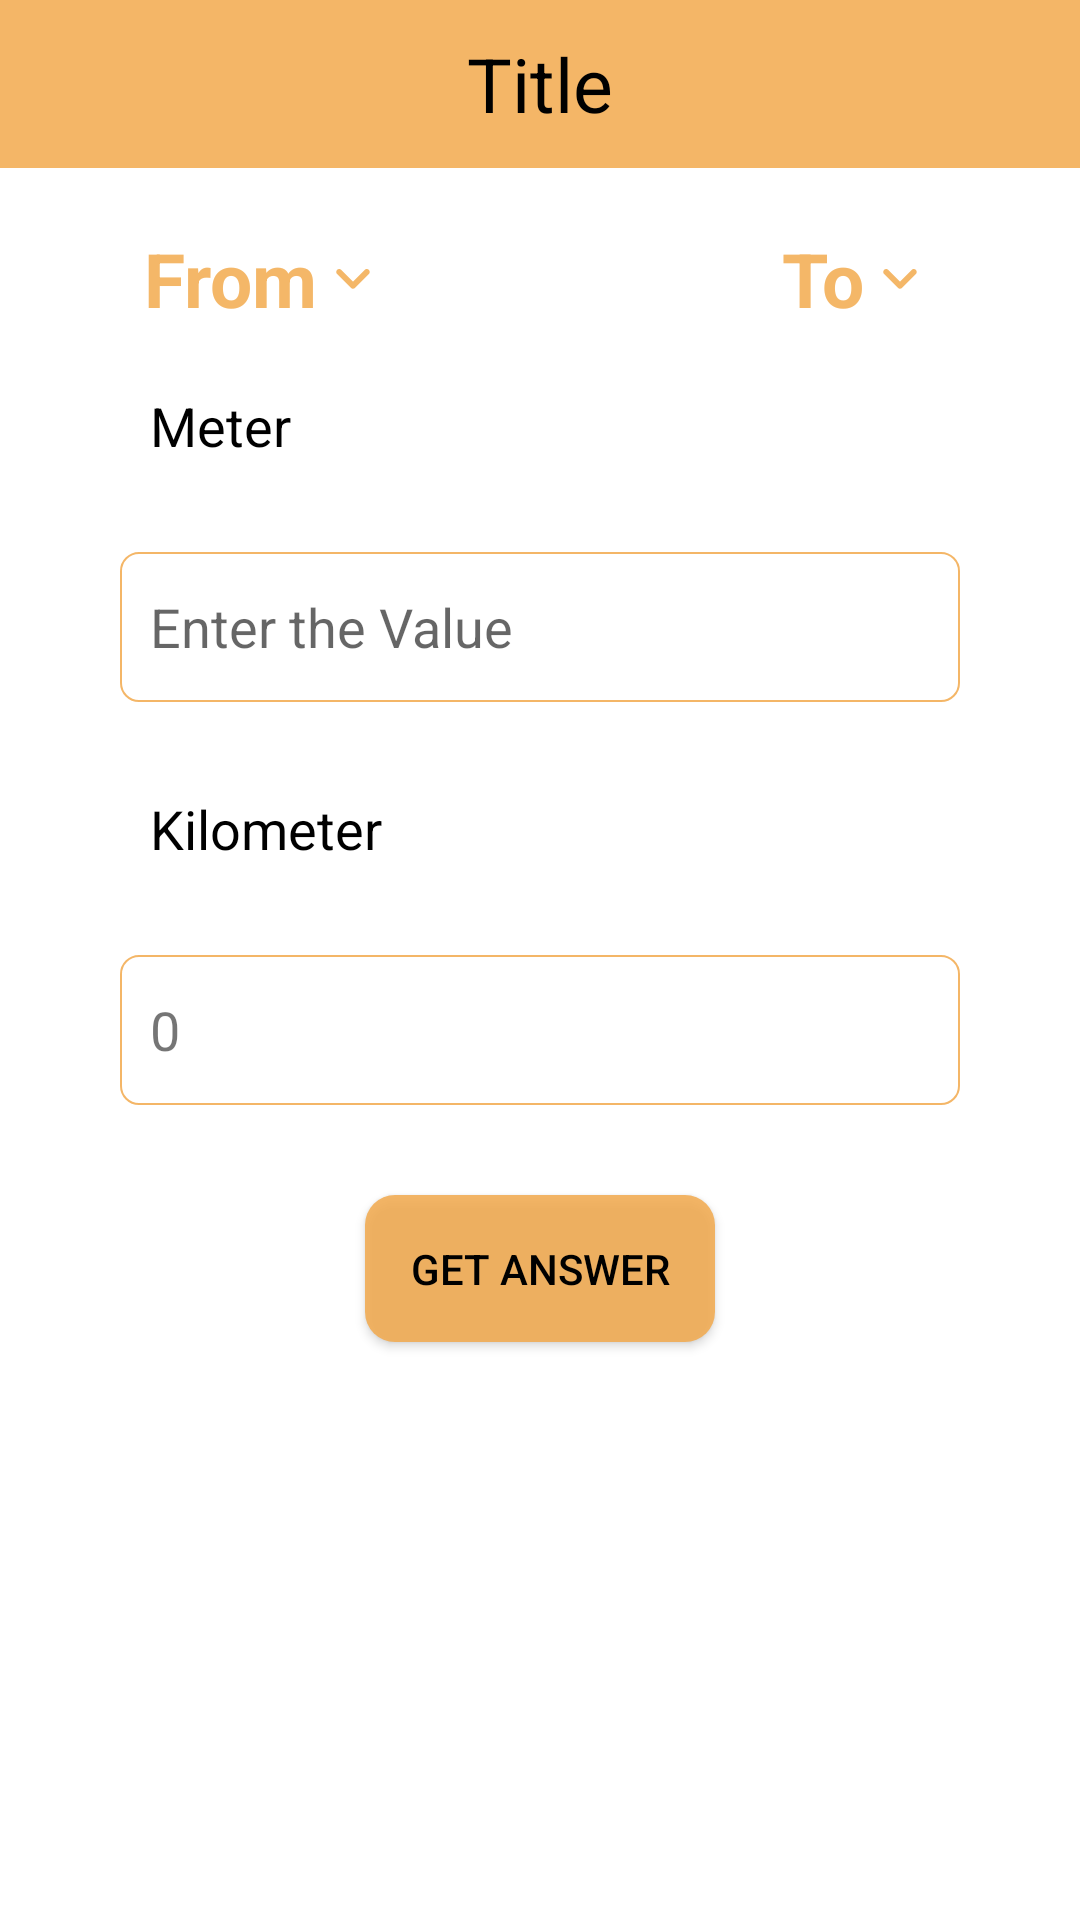

Icons on this 1080px x 1920px Android screen, each with the point to tap as [x,y]:
arrow down: [353,279], [900,279]
